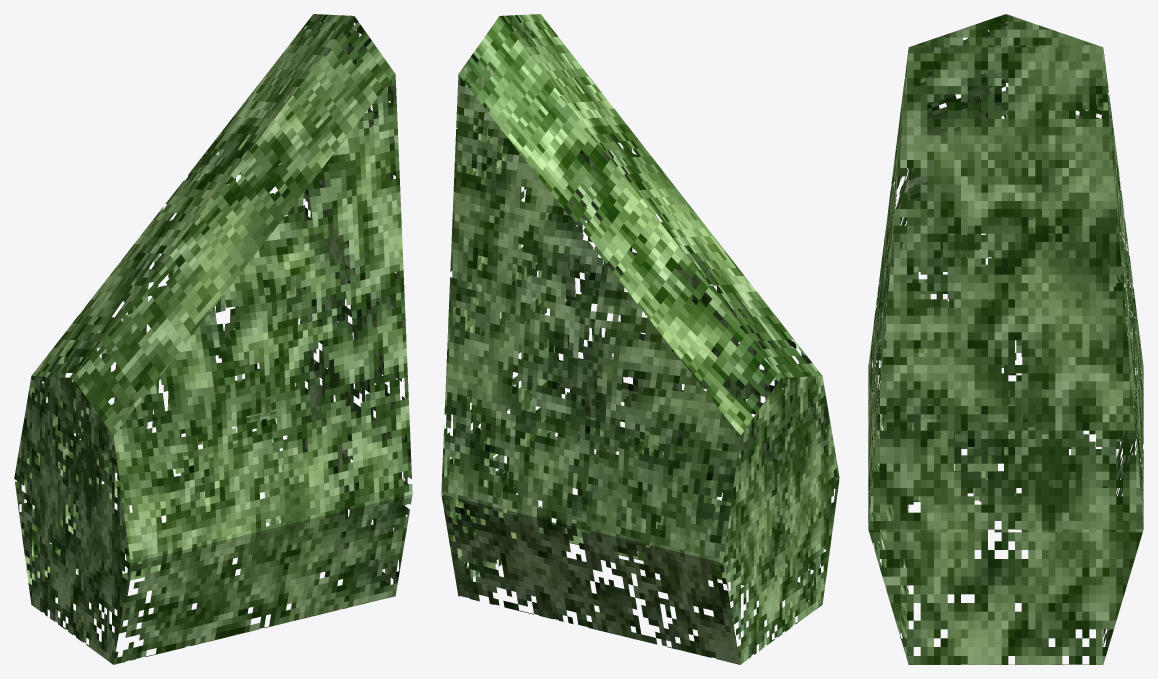
Rendered from bush_connector_straight_half_summer.glb.
The picture shows the model from 3 angles, left to right: view 1: azimuth 30°, elevation 25°; view 2: azimuth 150°, elevation 25°; view 3: azimuth 270°, elevation 25°; orthographic projection. The views are drawn at different scales.
Parts seen in each view (by area): view 1: bush_connector_straight_half_summer; view 2: bush_connector_straight_half_summer; view 3: bush_connector_straight_half_summer.
Part boxes in pixels (bbox=[...]): bush_connector_straight_half_summer: bbox=[14, 14, 412, 664]; bush_connector_straight_half_summer: bbox=[441, 14, 839, 664]; bush_connector_straight_half_summer: bbox=[868, 14, 1143, 664].
Bounding box in the file's own units: 1.01 × 1.88 × 0.7191.
Materials: 1 (1 with a texture image).
